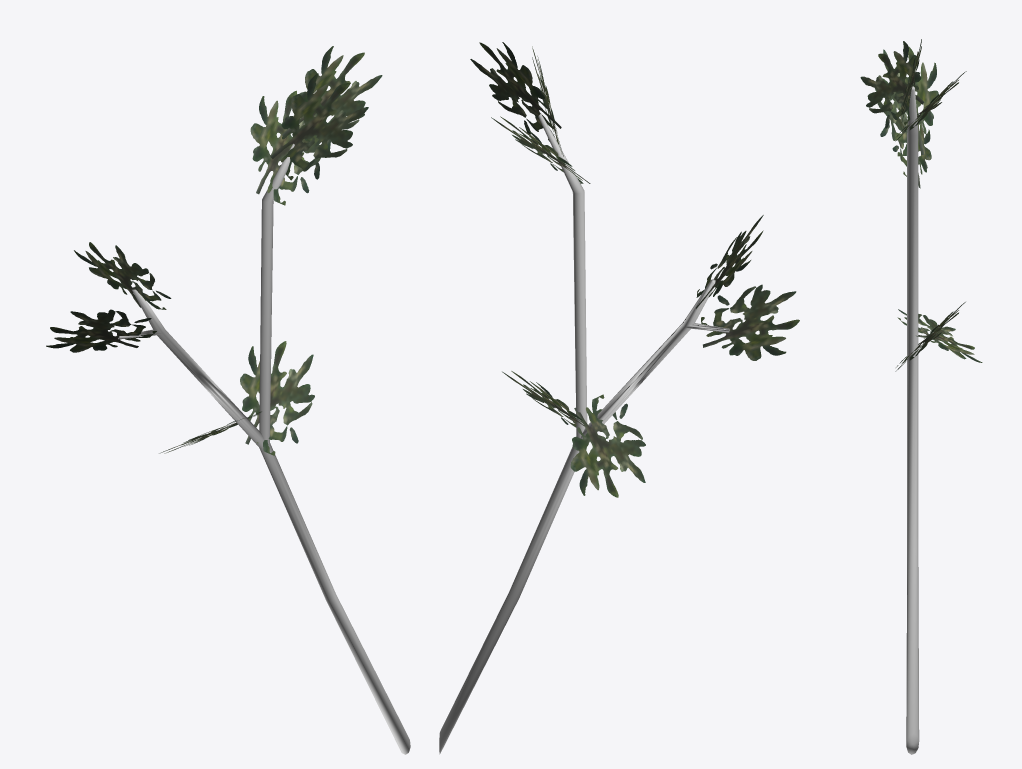
Rendered from oakBranchModel.fbx.
The picture shows the model from 3 angles, left to right: view 1: azimuth 30°, elevation 25°; view 2: azimuth 150°, elevation 25°; view 3: azimuth 270°, elevation 25°; orthographic projection. The views are drawn at different scales.
Visible parts, largest first — view 1: Plane_007, Cylinder_012; view 2: Plane_007, Cylinder_012; view 3: Cylinder_012, Plane_007.
Part boxes in pixels (<box>): Plane_007: <box>46,46,382,455</box>; Cylinder_012: <box>118,123,410,754</box>; Plane_007: <box>470,42,799,497</box>; Cylinder_012: <box>439,113,729,754</box>; Cylinder_012: <box>906,86,919,754</box>; Plane_007: <box>860,39,982,371</box>.
Bounding box in the file's own units: 0.8608 × 1.63 × 0.3585.
